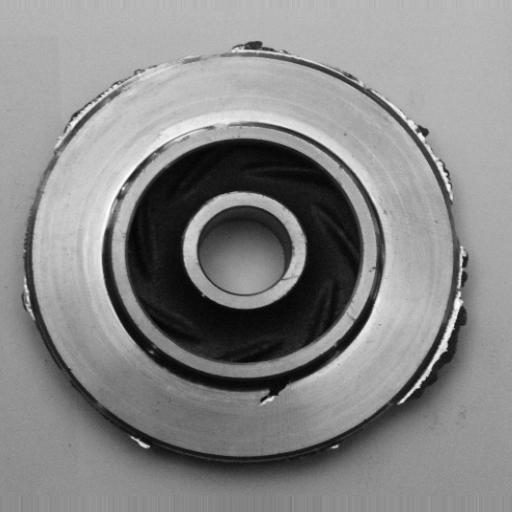casting_with_burr: (20, 39, 472, 467)
crack: (248, 371, 303, 416)
scratch: (157, 118, 248, 155)
